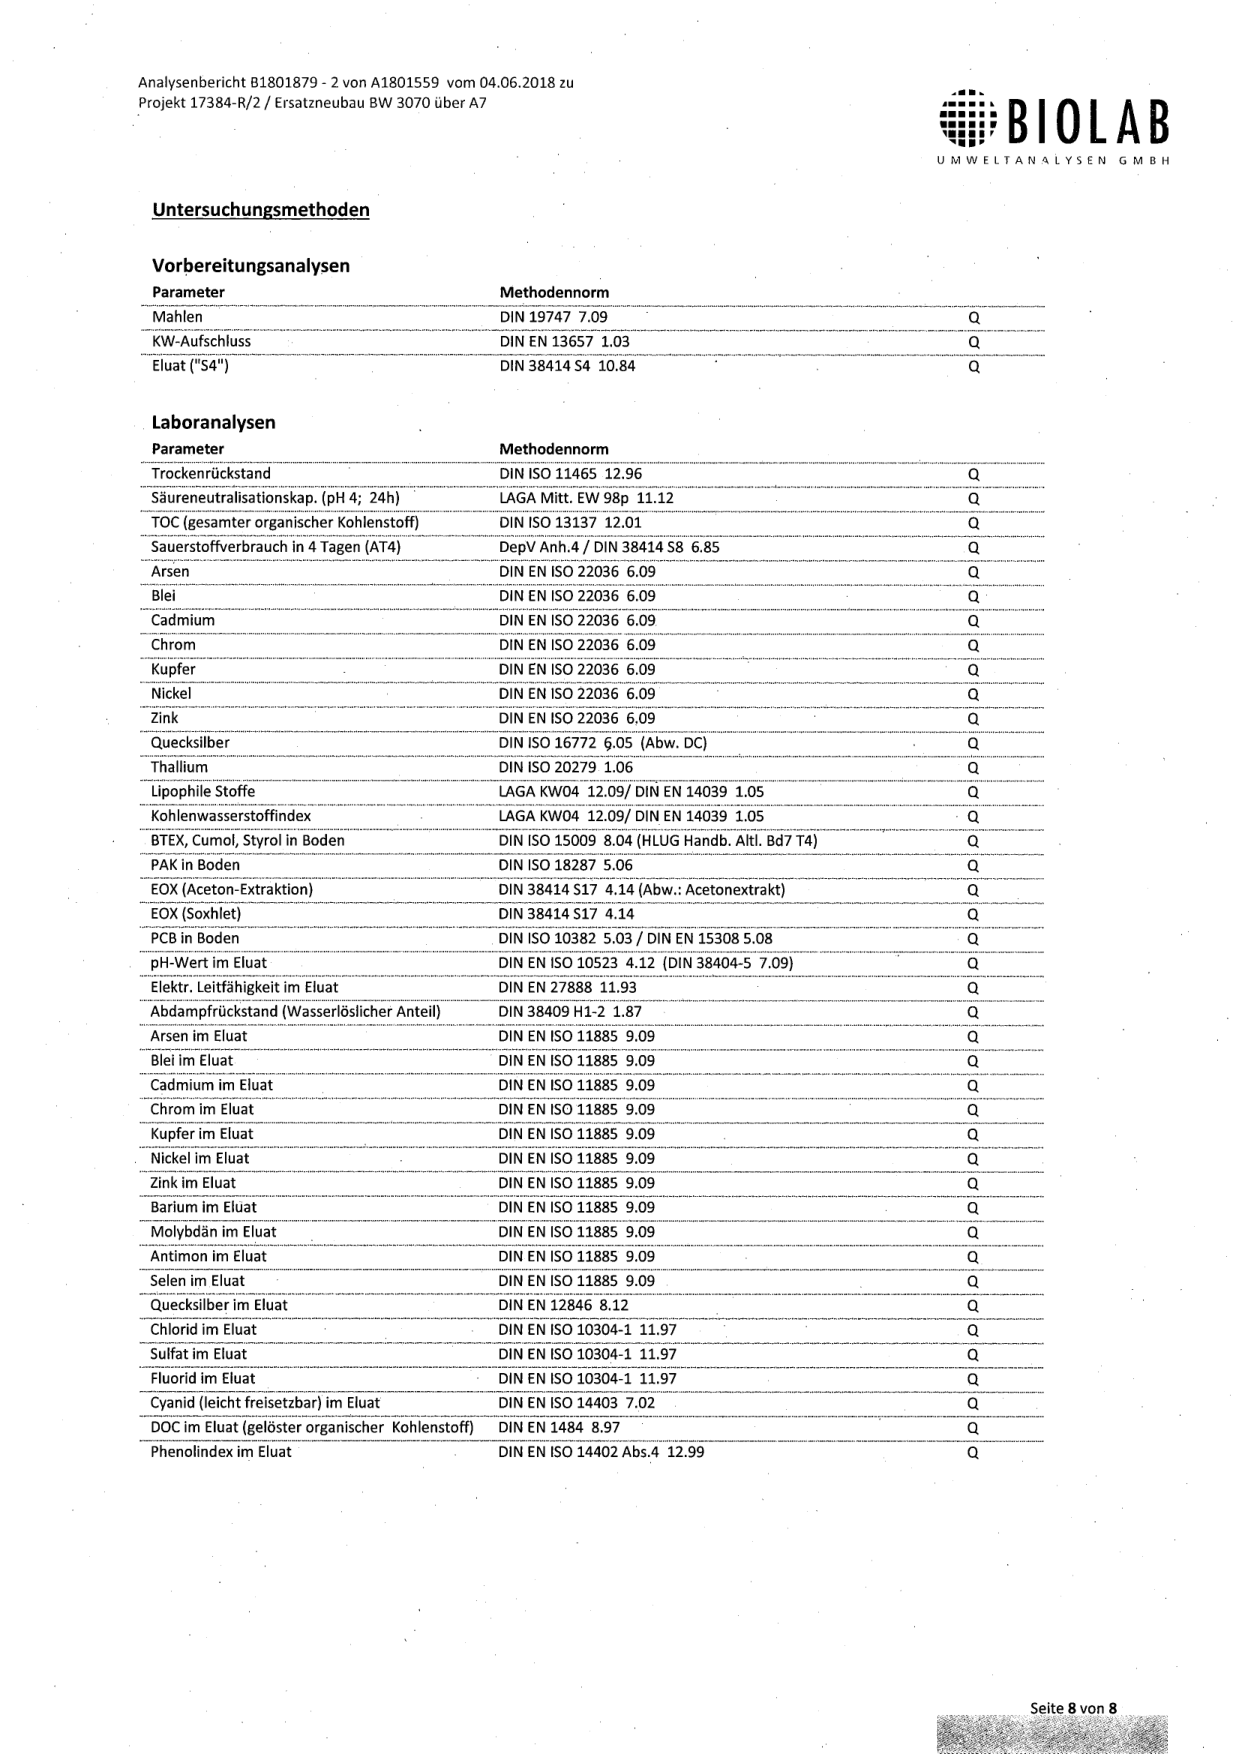table: (136, 432, 1066, 1477), (138, 274, 1045, 385)
